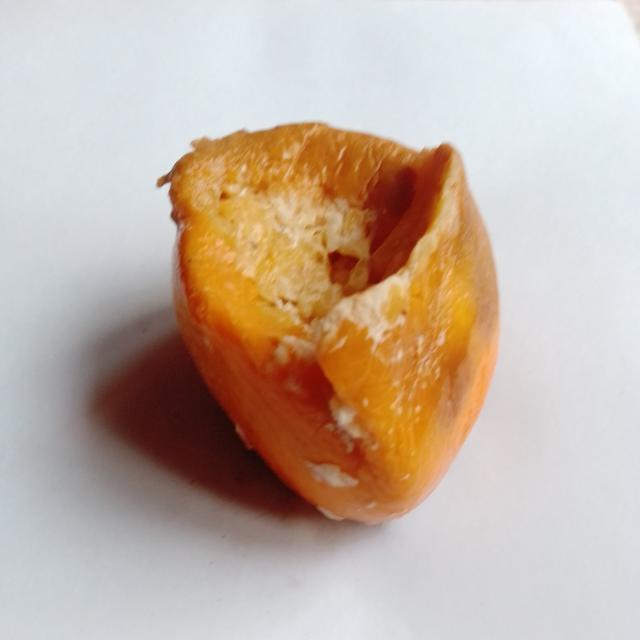orange: (159, 124, 498, 522)
